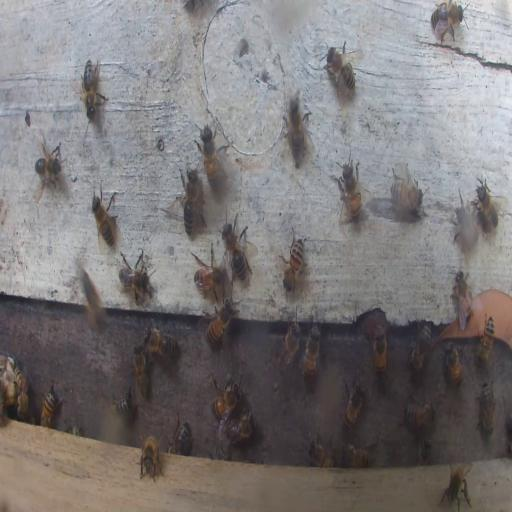nonpollenbee: (176, 167, 208, 235), (116, 250, 156, 304), (220, 216, 250, 283), (338, 152, 364, 224), (285, 93, 310, 162), (324, 43, 356, 96), (33, 141, 64, 195), (440, 461, 473, 511), (91, 186, 118, 247), (282, 230, 306, 294), (80, 58, 105, 119), (197, 123, 221, 186), (430, 1, 466, 42), (474, 176, 500, 232), (390, 173, 423, 215), (192, 255, 224, 295), (138, 433, 164, 481), (453, 204, 480, 250), (210, 380, 240, 421), (342, 380, 366, 431), (454, 268, 473, 330), (408, 322, 431, 372), (206, 302, 233, 344), (145, 327, 178, 361), (302, 323, 320, 382), (280, 318, 300, 371), (132, 342, 150, 399), (404, 398, 436, 428), (228, 408, 254, 444), (479, 380, 495, 436), (444, 343, 464, 387), (106, 392, 131, 426), (12, 366, 28, 419), (167, 420, 191, 454), (477, 315, 494, 362), (40, 384, 58, 428), (372, 326, 387, 376), (342, 443, 373, 467), (308, 439, 334, 467), (416, 437, 432, 464)
pollenbee: (80, 265, 108, 338)
